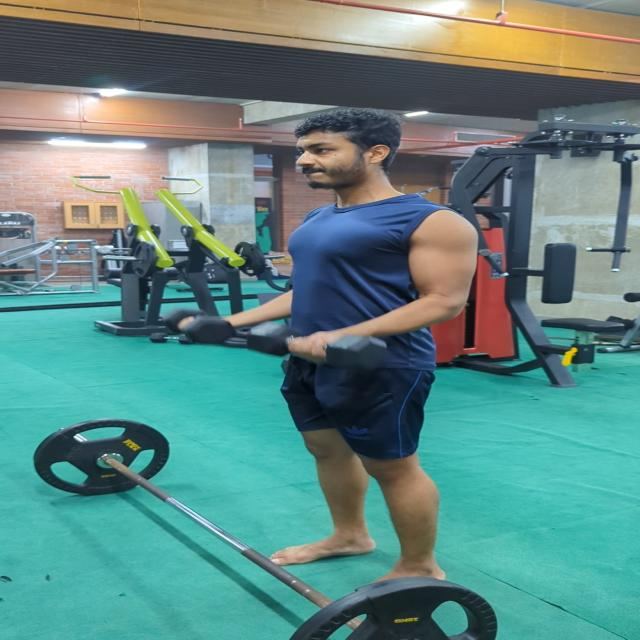Normal_DumbbellBicepCurls: (171, 110, 482, 587)
